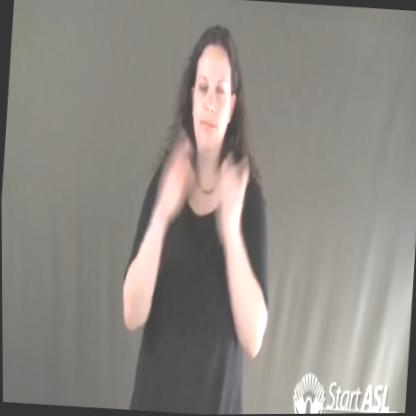NiceToMeetYou: (144, 118, 255, 250)
